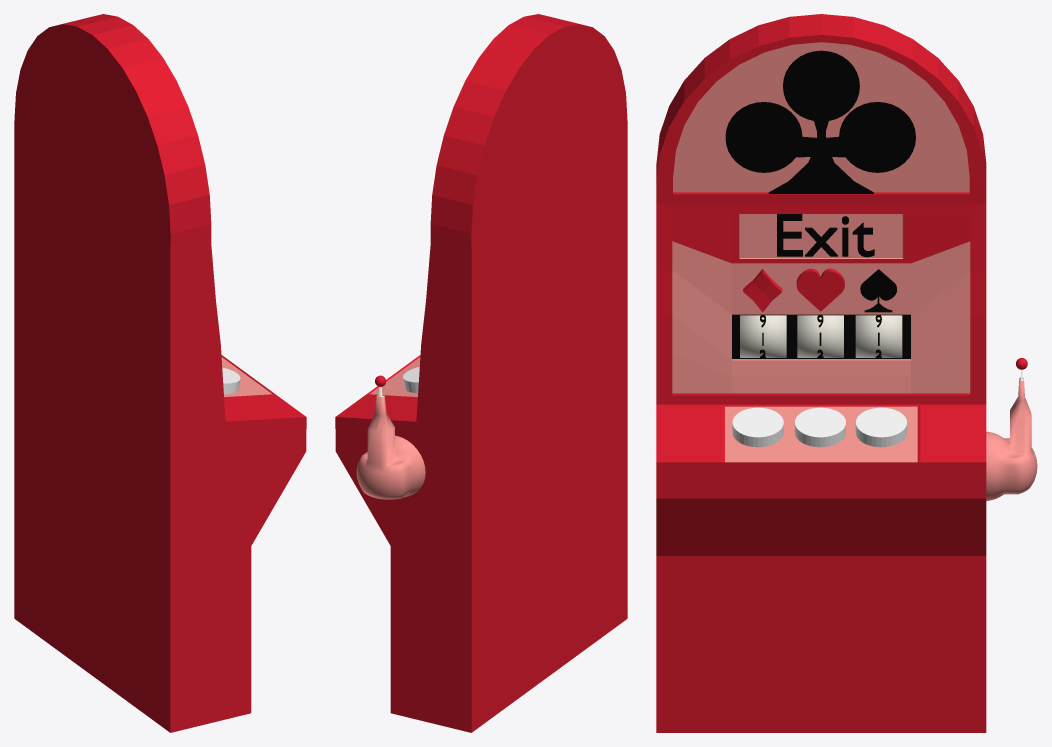
The model's file is FabiansSlotMaschiene.fbx.
The picture shows the model from 3 angles, left to right: view 1: azimuth 30°, elevation 25°; view 2: azimuth 150°, elevation 25°; view 3: azimuth 270°, elevation 25°; orthographic projection. The views are drawn at different scales.
Parts seen in each view (by area): view 1: SlotMachine; view 2: SlotMachine, Hebel; view 3: SlotMachine, Hebel, 1Slot.002, 1Slot.001, 1Slot, Button1, Button2, Button3, SlotMachine.002, SlotMachine.003, SlotMachine.001.
Part boxes in pixels (<box>): SlotMachine: <box>14,14,306,732</box>; SlotMachine: <box>335,14,627,732</box>; Hebel: <box>356,375,425,499</box>; SlotMachine: <box>656,14,986,732</box>; Hebel: <box>986,358,1037,500</box>; 1Slot.002: <box>855,314,902,358</box>; 1Slot.001: <box>797,314,843,358</box>; 1Slot: <box>740,314,786,358</box>; Button1: <box>732,407,783,447</box>; Button2: <box>794,407,845,447</box>; Button3: <box>855,407,906,447</box>; SlotMachine.002: <box>796,268,844,311</box>; SlotMachine.003: <box>860,269,896,312</box>; SlotMachine.001: <box>743,269,782,312</box>.
Size of the model in its own units: 101 by 453 by 231.
